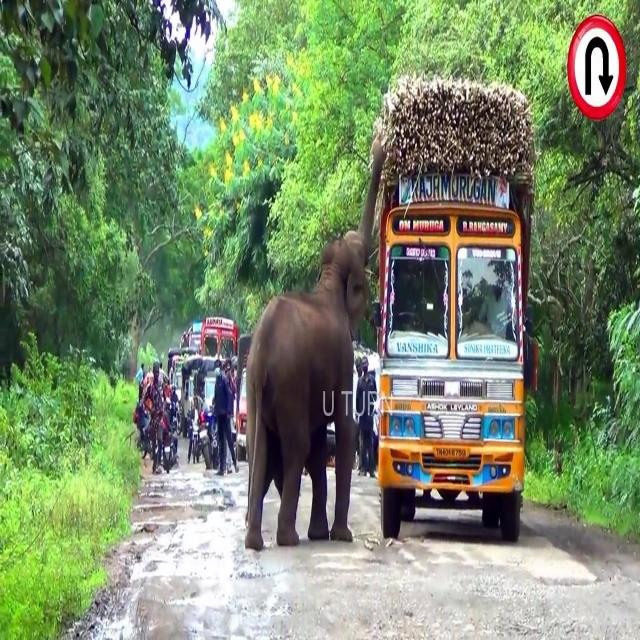Elephant: (243, 140, 385, 552)
